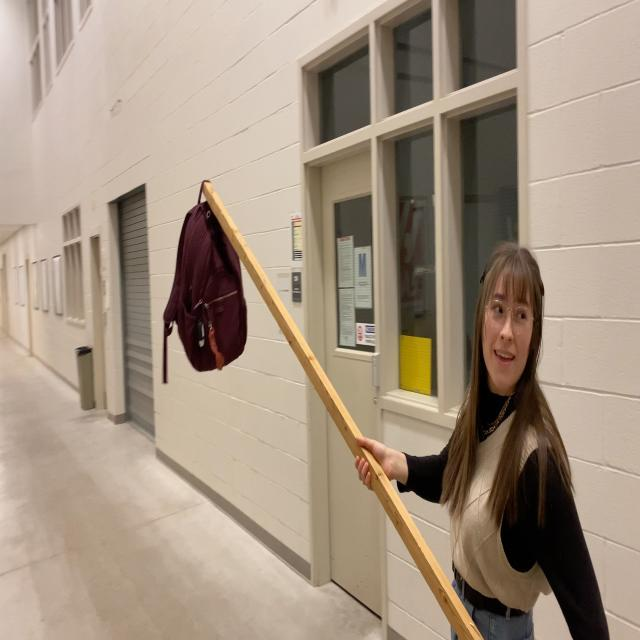Backpacks: (171, 198, 248, 374)
